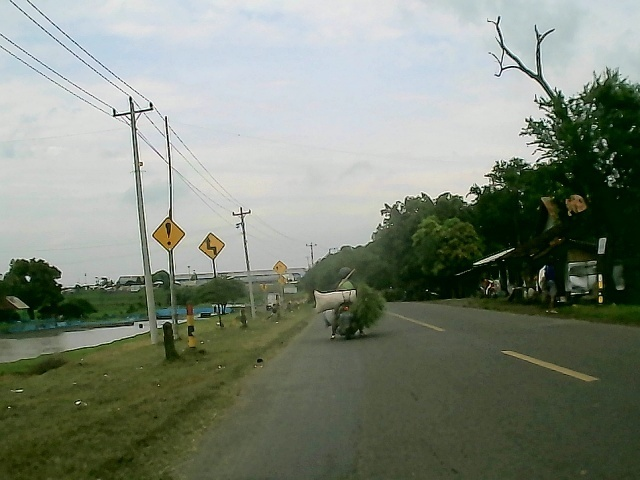Hati-hati: (149, 217, 186, 254)
Peringatan tepi air: (272, 259, 289, 278)
Tikungan garda pertama kiri: (196, 230, 227, 263)
